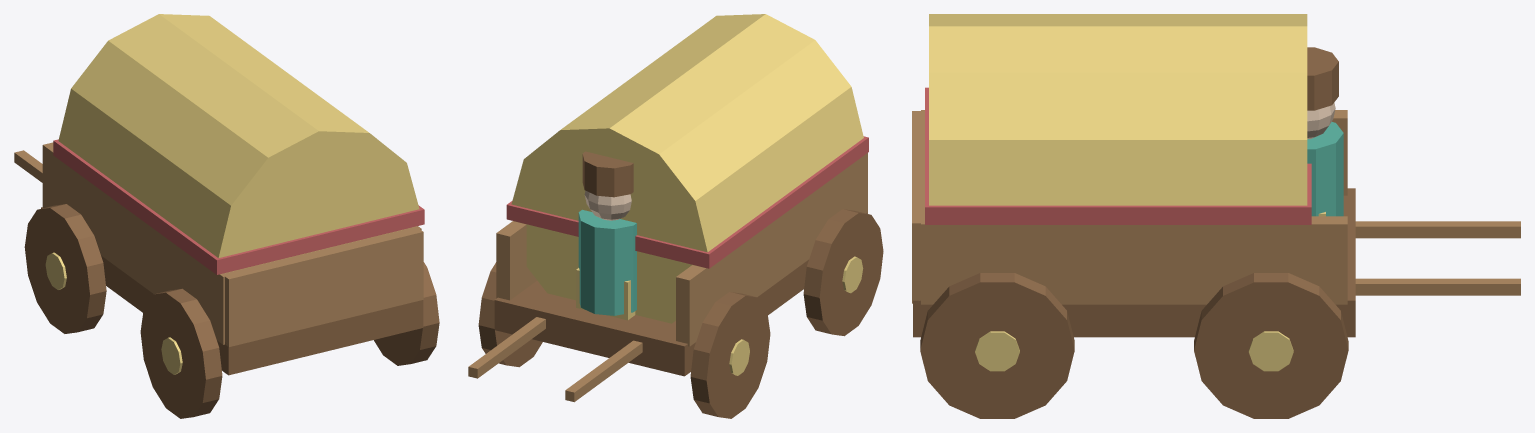
Rendered from merchant_caravan.glb.
3 renders of one model, left to right at view 1: azimuth 30°, elevation 25°; view 2: azimuth 150°, elevation 25°; view 3: azimuth 270°, elevation 25°, orthographic. The views are drawn at different scales.
Parts seen in each view (by area): view 1: Canopy, BackBoard, SideLeft, Wheel, Wheel.001, CartBed, CanopyTrim, Wheel.002, WheelHub.001, WheelHub, ShaftL; view 2: Canopy, SideLeft, CartBed, Wheel.001, Wheel, MerchantBody, CanopyTrim, SideRight, MerchantPapakh, Wheel.003, ShaftL, ShaftR (+4 smaller); view 3: Canopy, SideRight, Wheel.002, Wheel.003, CanopyTrim, CartBed, ShaftL, ShaftR, MerchantBody, BackBoard, MerchantPapakh, WheelHub.003 (+3 smaller).
Part boxes in pixels (<box>): Canopy: <box>58,14,419,274</box>; BackBoard: <box>222,227,423,346</box>; SideLeft: <box>42,142,224,344</box>; Wheel: <box>140,288,222,418</box>; Wheel.001: <box>24,204,106,333</box>; CartBed: <box>41,207,423,375</box>; CanopyTrim: <box>53,139,424,274</box>; Wheel.002: <box>374,262,439,365</box>; WheelHub.001: <box>45,252,66,289</box>; WheelHub: <box>161,337,182,374</box>; ShaftL: <box>14,150,42,182</box>; Canopy: <box>511,14,863,323</box>; SideLeft: <box>676,154,865,346</box>; CartBed: <box>494,213,867,376</box>; Wheel.001: <box>690,292,770,418</box>; Wheel: <box>803,209,883,336</box>; MerchantBody: <box>578,209,636,315</box>; CanopyTrim: <box>506,136,868,268</box>; SideRight: <box>496,221,536,300</box>; MerchantPapakh: <box>582,151,633,197</box>; Wheel.003: <box>478,262,542,367</box>; ShaftL: <box>565,340,642,402</box>; ShaftR: <box>468,317,545,378</box>; Canopy: <box>929,14,1307,205</box>; SideRight: <box>921,216,1347,304</box>; Wheel.002: <box>920,273,1074,418</box>; Wheel.003: <box>1194,273,1348,418</box>; CanopyTrim: <box>925,87,1311,224</box>; CartBed: <box>913,188,1355,337</box>; ShaftL: <box>1355,221,1520,238</box>; ShaftR: <box>1355,278,1520,295</box>; MerchantBody: <box>1307,122,1343,216</box>; BackBoard: <box>912,111,924,303</box>; MerchantPapakh: <box>1307,47,1338,110</box>; WheelHub.003: <box>1248,331,1293,371</box>.
Size of the model in its own units: 2.02 by 2.23 by 3.78.
